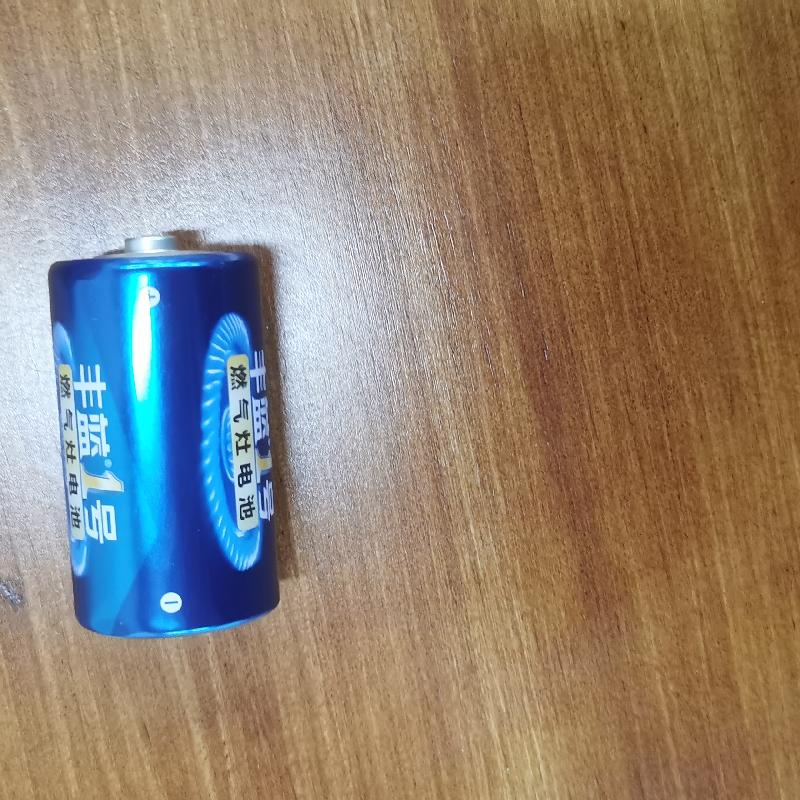battery: (33, 228, 294, 637)
